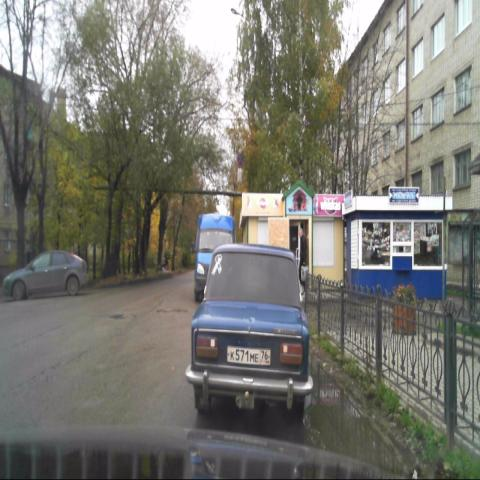3_27: (236, 152, 245, 168)
